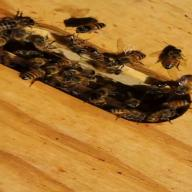Bee: (65, 12, 108, 36), (153, 41, 188, 70)
